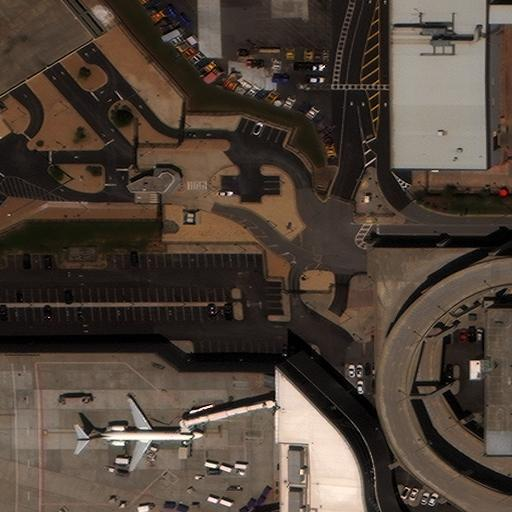Medium Civil Transport: (73, 397, 207, 470)
